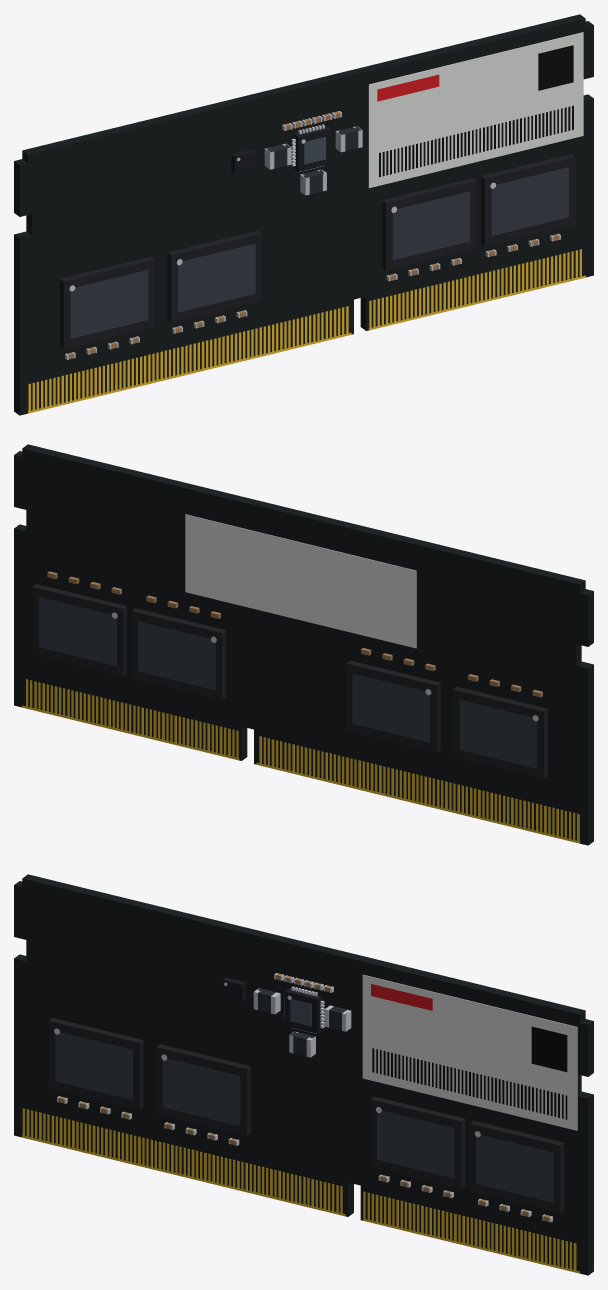
Rendered from DDR5_32GB_SODIMM_LAPTOP.obj.
The picture shows the model from 3 angles, top to bottom: view 1: azimuth 30°, elevation 25°; view 2: azimuth 150°, elevation 25°; view 3: azimuth 330°, elevation 25°; orthographic projection.
Bounding box in the file's own units: 69.6 × 30 × 3.36.
